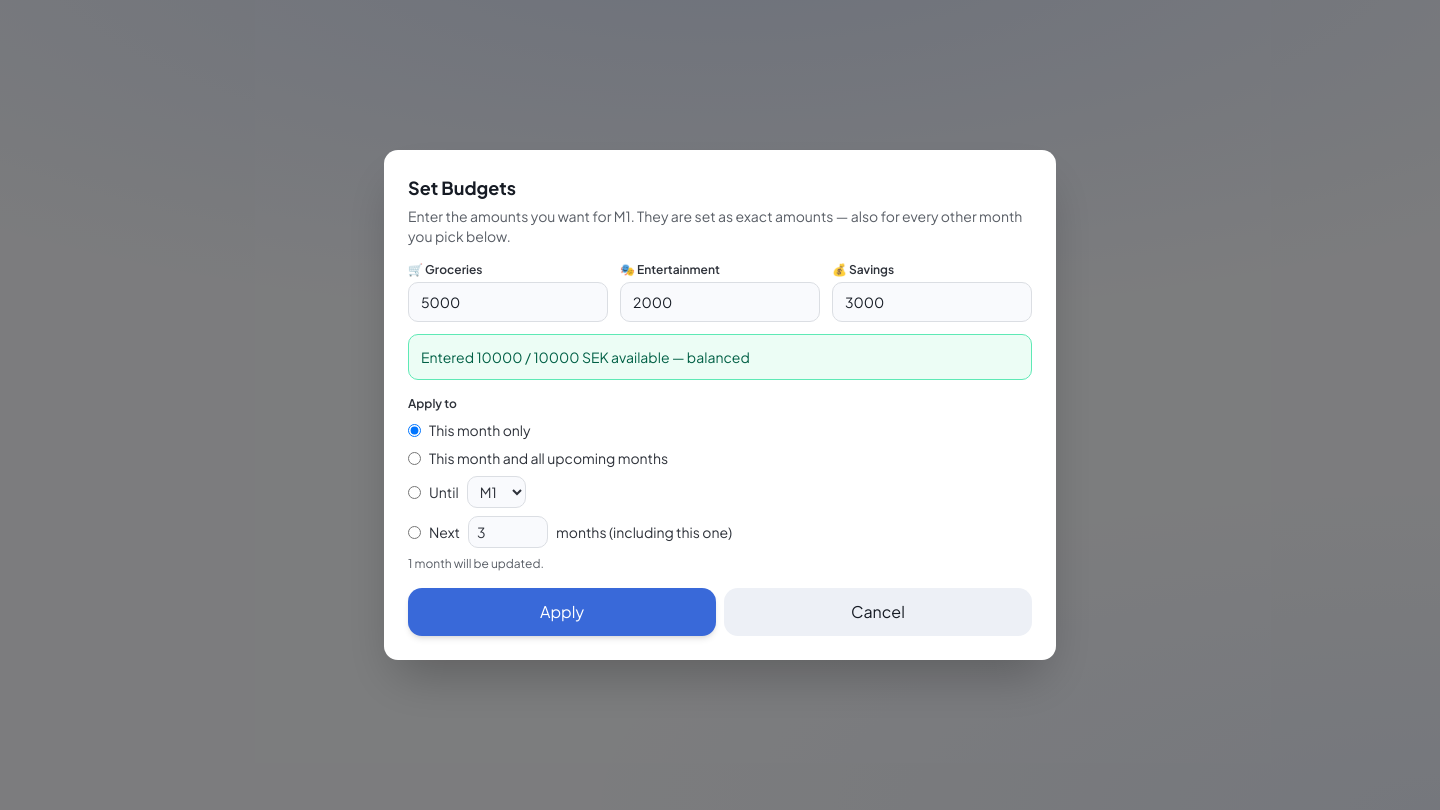
it: SetBudgetsModal › offers a one-click way to put the unallocated remainder into a bucket
Replace the text in the number field labelled "🛒 Groceries" with "4500". click: (508, 302)
box: top-left (408, 282), bottom-right (608, 322)
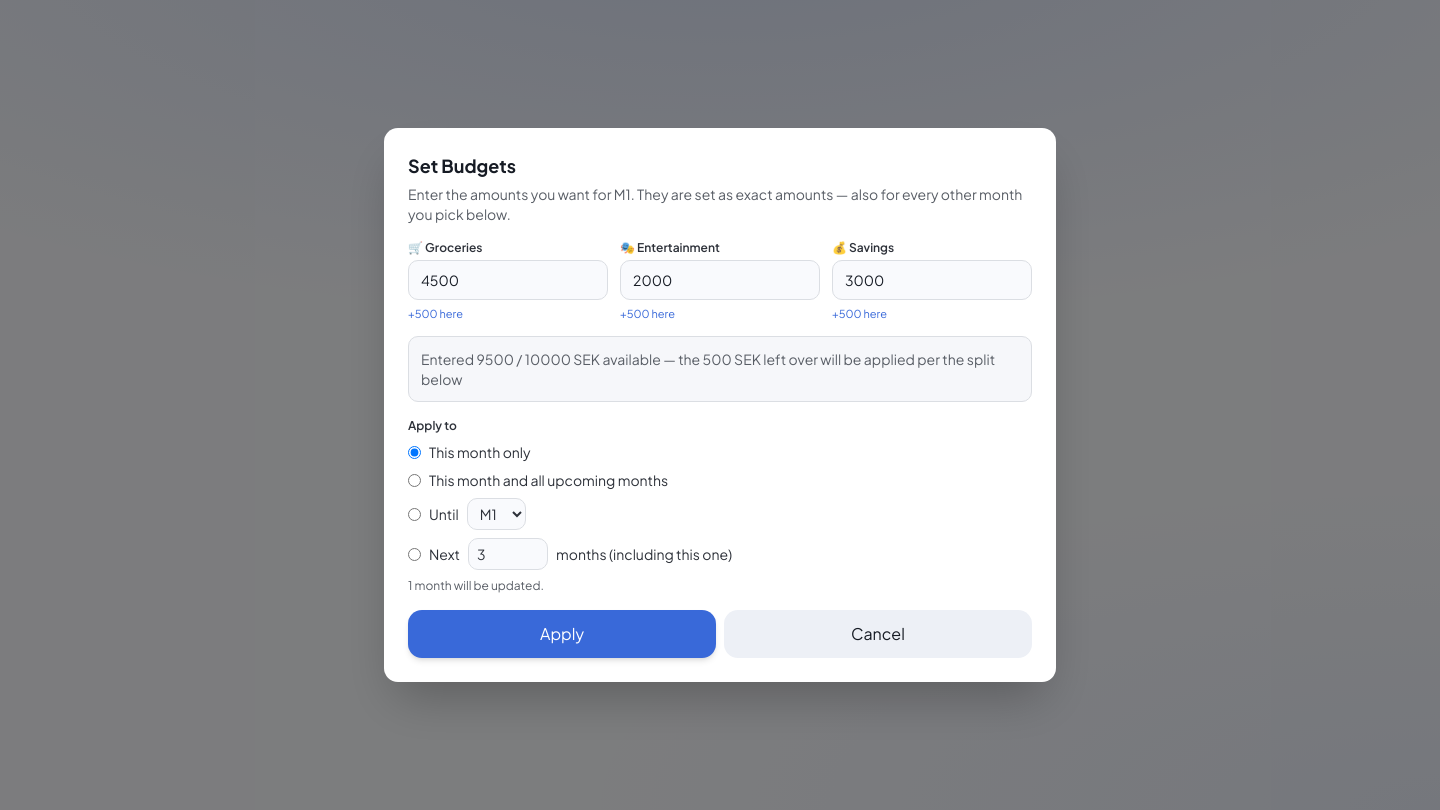
Now the number of buttons "+500 here" is 3
Click the button "+500 here" below "💰 Savings". click: (860, 314)
box: top-left (832, 306), bottom-right (887, 322)
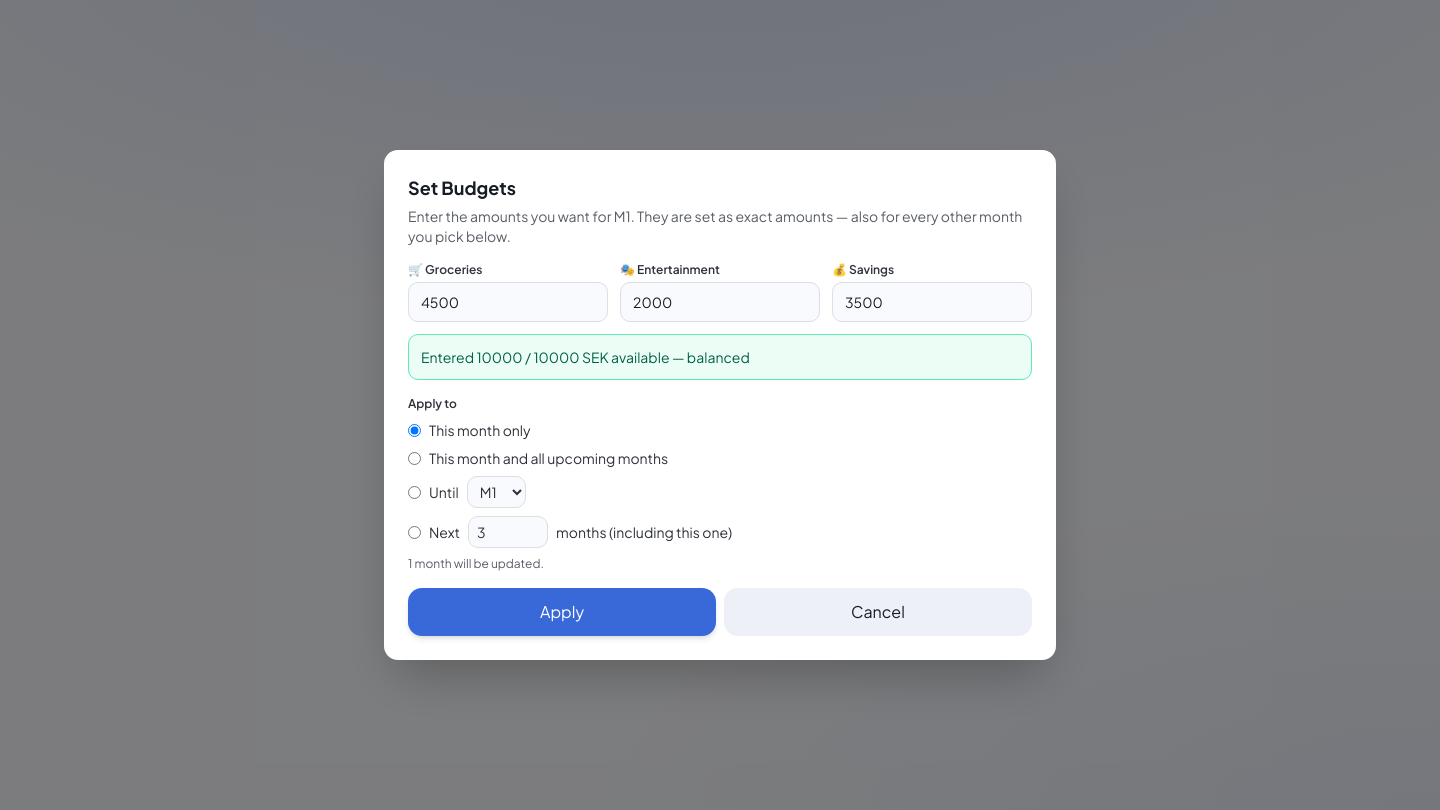
Now the number field labelled "💰 Savings" holds "3500", box top-left (832, 282), bottom-right (1032, 322)
Now the text with test id "set-budgets-balance" shows "balanced", box top-left (670, 348), bottom-right (750, 366)
